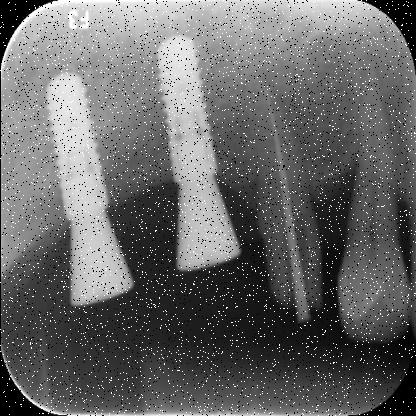ITI: (32, 76, 105, 210), (153, 32, 217, 180)
